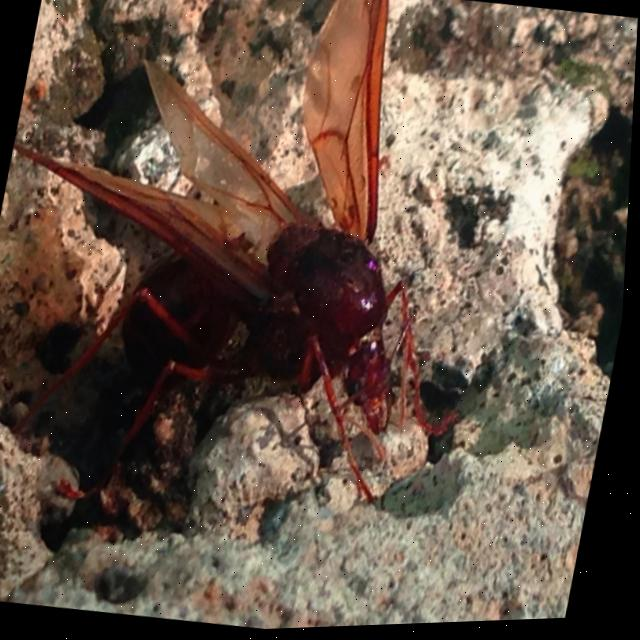Alive-Male-Alate: (0, 0, 538, 555)
